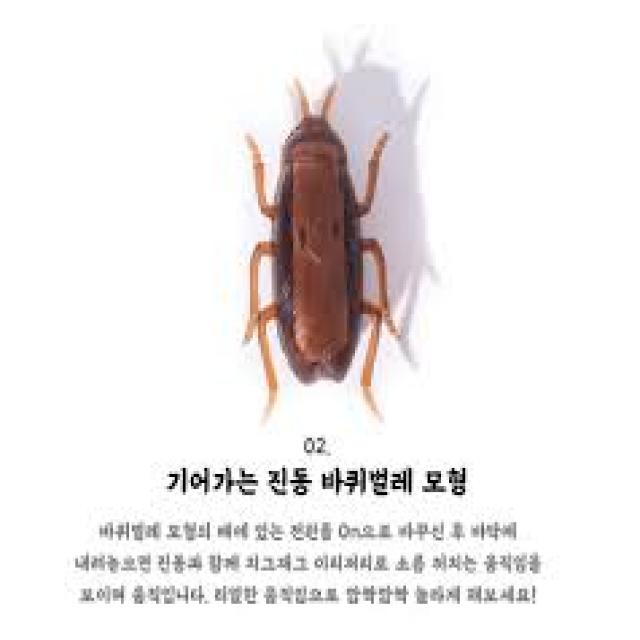Cockroach: (211, 52, 429, 444)
